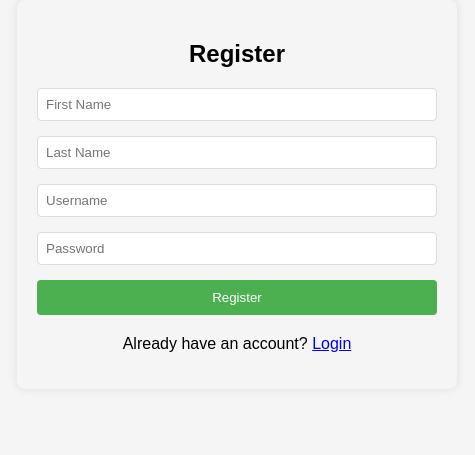
Test: Register Page › should display error message on registration failure
The width and height of the screenshot is (475, 455).
In the field with placeholder "First Name": (237, 104) [37,88,437,121], type "John"
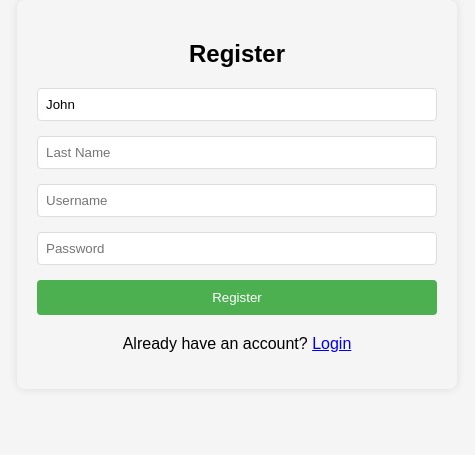
In the field with placeholder "Last Name": (237, 152) [37,136,437,169], type "Doe"
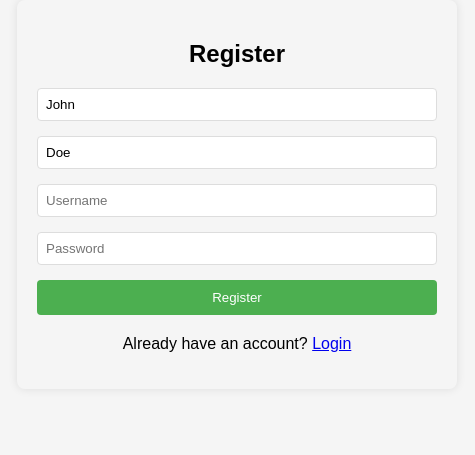
In the field with placeholder "Username": (237, 200) [37,184,437,217], type "existinguser"
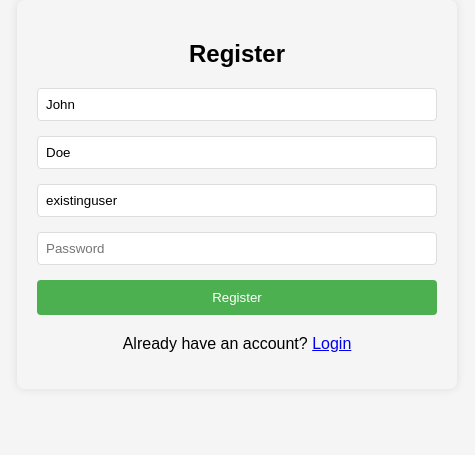
In the password field with placeholder "Password": (237, 248) [37,232,437,265], type "password123"
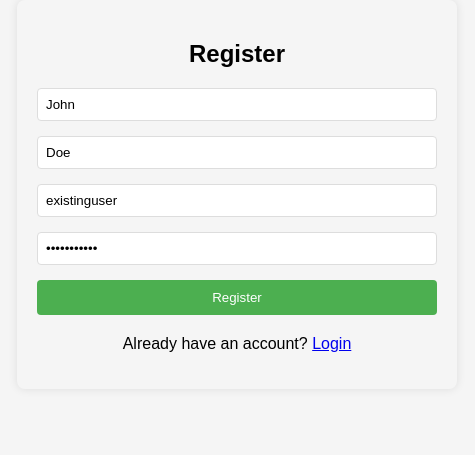
Click the button "Register": (237, 297) [37,280,437,315]
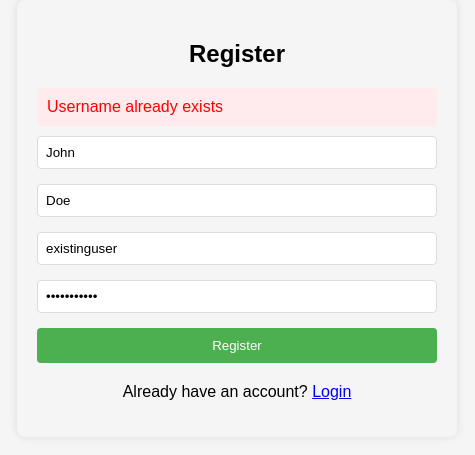
Expected: the text "Username already exists" is shown, [37,88,437,126]
